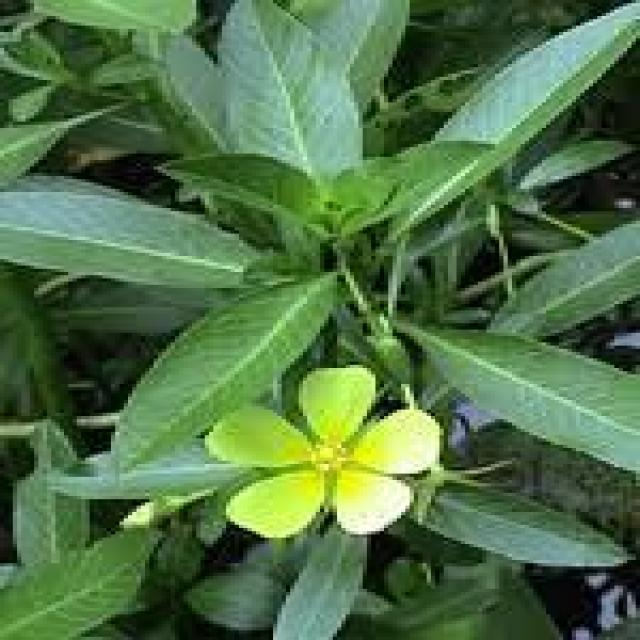organic waste: (201, 349, 452, 541)
